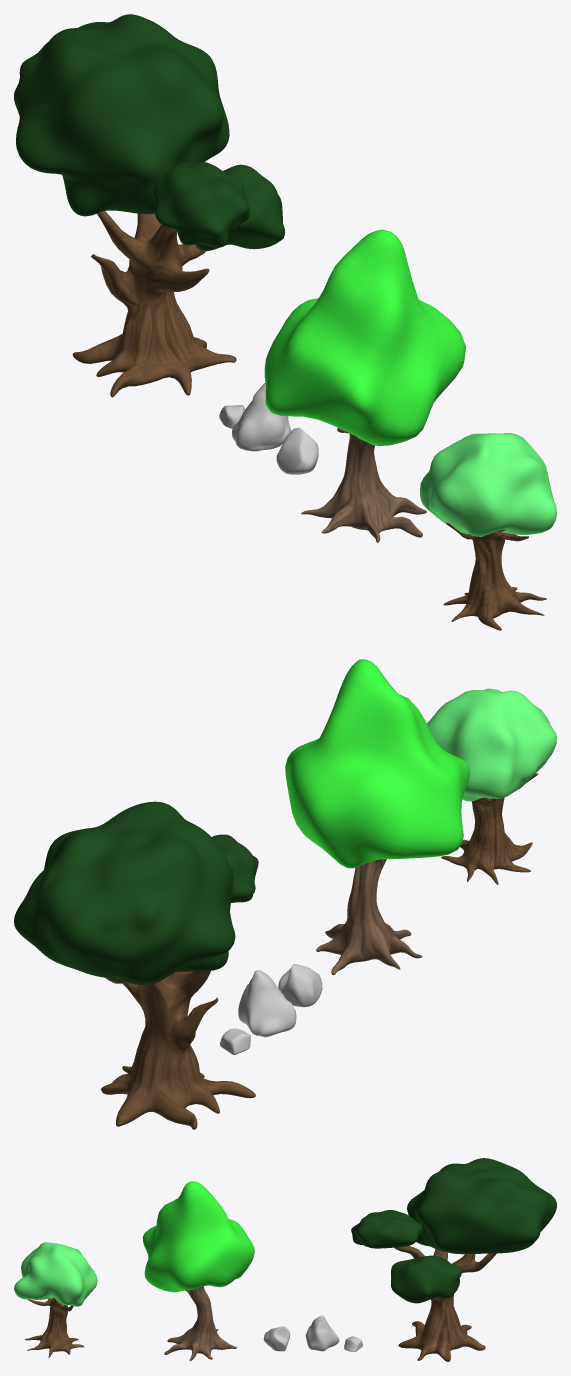
The model's file is Roca2_Final.FBX.
3 views of the same model, one above another, from view 1: azimuth 30°, elevation 25°; view 2: azimuth 150°, elevation 25°; view 3: azimuth 270°, elevation 25° (orthographic). The views are drawn at different scales.
Parts seen in each view (by area): view 1: Hojas1, Hojas2, Arbol1_L, Hojas3, Arbol2_L, Arbol3_L, Roca2, roca1; view 2: Hojas1, Hojas2, Arbol1_L, Hojas3, Arbol2_L, Arbol3_L, Roca2, roca1, roca3; view 3: Hojas1, Hojas2, Hojas3, Arbol1_L, Arbol2_L, Arbol3_L, Roca2, roca1.
Part boxes in pixels (<box>): Hojas1: <box>14,14,284,251</box>; Hojas2: <box>264,229,465,446</box>; Arbol1_L: <box>72,211,236,397</box>; Hojas3: <box>420,433,556,536</box>; Arbol2_L: <box>301,428,426,542</box>; Arbol3_L: <box>443,522,546,630</box>; Roca2: <box>232,383,291,451</box>; roca1: <box>276,427,318,474</box>; Hojas1: <box>14,801,258,984</box>; Hojas2: <box>285,659,469,868</box>; Arbol1_L: <box>101,971,255,1129</box>; Hojas3: <box>426,688,556,801</box>; Arbol2_L: <box>316,859,422,975</box>; Arbol3_L: <box>441,773,537,884</box>; Roca2: <box>238,970,296,1037</box>; roca1: <box>278,964,322,1007</box>; roca3: <box>219,1028,250,1054</box>; Hojas1: <box>351,1158,556,1303</box>; Hojas2: <box>142,1181,254,1292</box>; Hojas3: <box>14,1242,97,1306</box>; Arbol1_L: <box>394,1246,496,1361</box>; Arbol2_L: <box>164,1285,237,1360</box>; Arbol3_L: <box>24,1297,84,1357</box>; Roca2: <box>305,1315,339,1351</box>; roca1: <box>263,1326,290,1351</box>.
Size of the model in its own units: 10.63 by 14.74 by 40.93.
